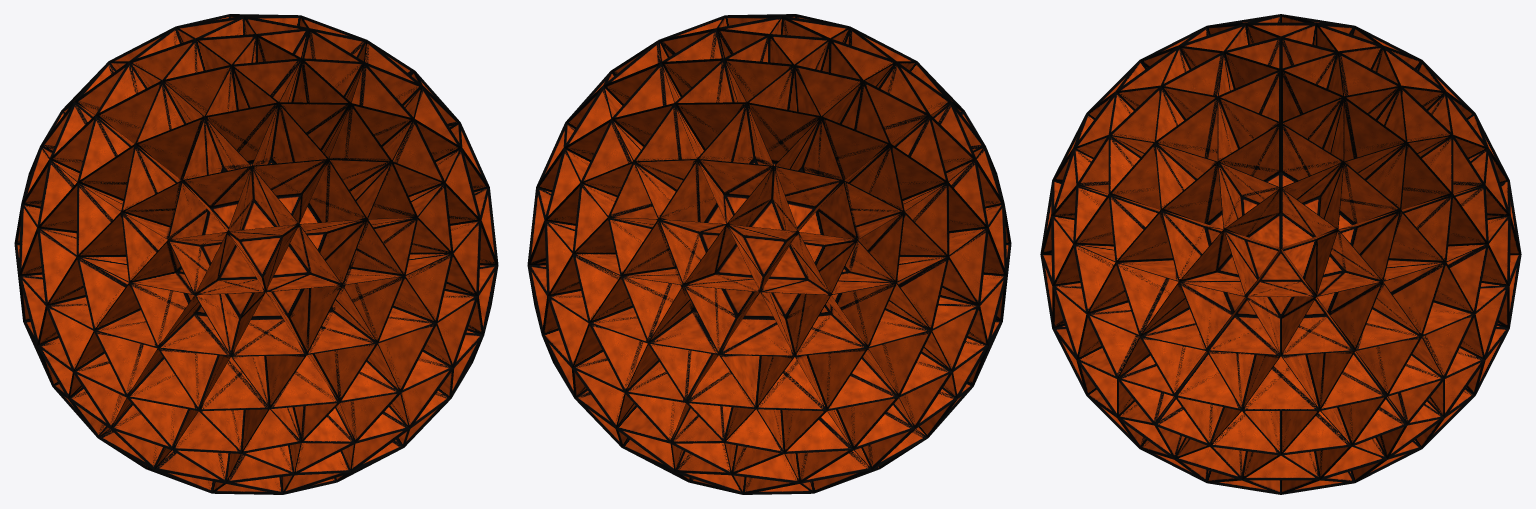
3 renders of one model, left to right at view 1: azimuth 30°, elevation 25°; view 2: azimuth 150°, elevation 25°; view 3: azimuth 270°, elevation 25°, orthographic.
Visible parts, largest first — view 1: ico-layer3-col.143, ico-layer3-col.072, ico-layer3-col.151, ico-layer3-col.067, ico-layer3-col.205, ico-layer3-col.216, ico-layer3-col.215, ico-layer3-col.063, ico-layer3-col.152, ico-layer3-col.200, ico-layer3-col.070, ico-layer3-col.078 (+130 smaller); view 2: ico-layer3-col.116, ico-layer3-col.040, ico-layer3-col.045, ico-layer3-col.185, ico-layer3-col.043, ico-layer3-col.053, ico-layer3-col.056, ico-layer3-col.121, ico-layer3-col.173, ico-layer3-col.112, ico-layer3-col.117, ico-layer3-col.014 (+133 smaller); view 3: ico-layer3-col.235, ico-layer3-col.161, ico-layer3-col.088, ico-layer3-col.231, ico-layer3-col.165, ico-layer3-col, ico-layer3-col.098, ico-layer3-col.032, ico-layer3-col.022, ico-layer3-col.023, ico-layer3-col.092, ico-layer3-col.237 (+132 smaller).
Boxes of the visible parts, x1,y1,x2,y2 form: ico-layer3-col.143: (231,317,306,408); ico-layer3-col.072: (252,102,328,196); ico-layer3-col.151: (288,285,377,354); ico-layer3-col.067: (205,65,278,162); ico-layer3-col.205: (127,348,218,410); ico-layer3-col.216: (313,344,400,402); ico-layer3-col.215: (344,276,436,343); ico-layer3-col.063: (77,144,176,211); ico-layer3-col.152: (332,268,404,343); ico-layer3-col.200: (94,283,189,347); ico-layer3-col.070: (279,59,351,150); ico-layer3-col.078: (293,159,367,233); ico-layer3-col.116: (649,285,737,354); ico-layer3-col.040: (747,65,820,159); ico-layer3-col.045: (634,159,717,222); ico-layer3-col.185: (785,294,867,356); ico-layer3-col.043: (747,102,820,170); ico-layer3-col.053: (802,116,890,182); ico-layer3-col.056: (822,80,890,179); ico-layer3-col.121: (719,317,794,408); ico-layer3-col.173: (589,276,682,343); ico-layer3-col.112: (621,268,694,343); ico-layer3-col.117: (683,274,759,354); ico-layer3-col.014: (686,355,755,442); ico-layer3-col.235: (1242,354,1319,410); ico-layer3-col.161: (1117,210,1210,281); ico-layer3-col.088: (1217,96,1280,181); ico-layer3-col.231: (1174,351,1255,410); ico-layer3-col.165: (1141,282,1233,350); ico-layer3-col: (1115,259,1188,336); ico-layer3-col.098: (1354,308,1421,396); ico-layer3-col.032: (1340,143,1407,223); ico-layer3-col.022: (1281,69,1343,148); ico-layer3-col.023: (1281,122,1343,203); ico-layer3-col.092: (1154,142,1221,224); ico-layer3-col.237: (1306,351,1386,410).
Size of the model in its own units: 31.84 by 31.84 by 31.84.
1 material, 1 textured.
